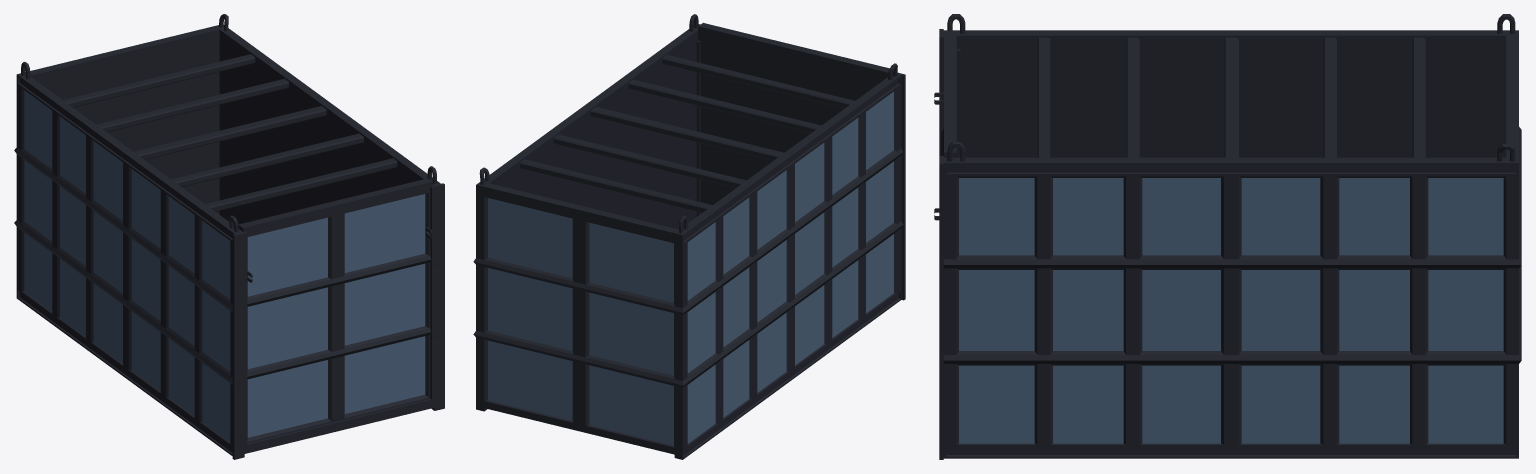
File: cage_blue.fbx
3 views of the same model, side by side, from view 1: azimuth 30°, elevation 25°; view 2: azimuth 150°, elevation 25°; view 3: azimuth 270°, elevation 25° (orthographic). The views are drawn at different scales.
Parts seen in each view (by area): view 1: cage, door; view 2: cage, door; view 3: cage, door.
Part boxes in pixels (x1=…): cage: x1=14, y1=14, x2=444, y2=459; door: x1=238, y1=178, x2=432, y2=442; cage: x1=473, y1=14, x2=905, y2=459; door: x1=698, y1=22, x2=889, y2=213; cage: x1=939, y1=14, x2=1521, y2=459; door: x1=934, y1=30, x2=956, y2=220.
Size of the model in its own units: 1689 by 1824 by 3095.
